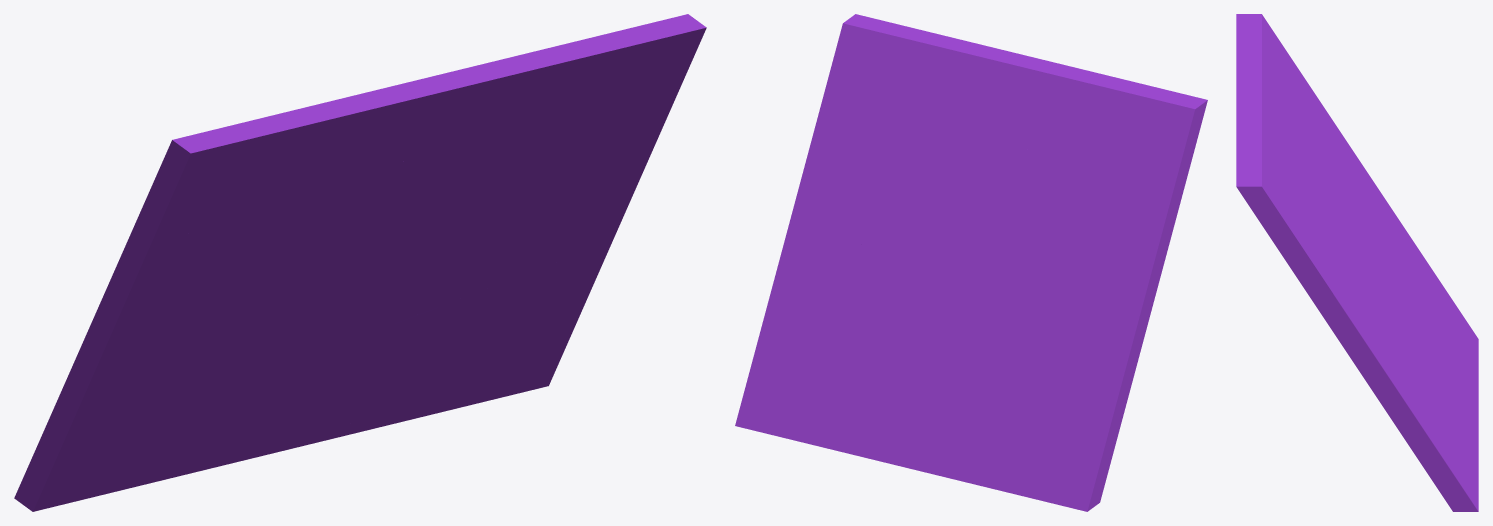
File: Window_21_chunks.fbx
3 renders of one model, left to right at view 1: azimuth 30°, elevation 25°; view 2: azimuth 150°, elevation 25°; view 3: azimuth 270°, elevation 25°, orthographic. The views are drawn at different scales.
Visible parts, largest first — view 1: Window_21_4, Window_21_7, Window_21_12, Window_21_28, Window_21_11, Window_21_33, Window_21_30, Window_21_8, Window_21_3, Window_21_23, Window_21_31, Window_21_14 (+15 smaller); view 2: Window_21_4, Window_21_7, Window_21_33, Window_21_24, Window_21_8, Window_21_28, Window_21_11, Window_21_10, Window_21_12, Window_21_25, Window_21_32, Window_21_14 (+14 smaller); view 3: Window_21_7, Window_21_28, Window_21_4, Window_21_33, Window_21_27, Window_21_21, Window_21_12, Window_21_24, Window_21_8, Window_21_32, Window_21_25, Window_21_14 (+14 smaller).
Part boxes in pixels (left/top/right/bottom): Window_21_4: left=14, top=313, right=302, bottom=511; Window_21_7: left=337, top=278, right=596, bottom=437; Window_21_12: left=171, top=109, right=320, bottom=249; Window_21_28: left=521, top=14, right=706, bottom=171; Window_21_11: left=79, top=244, right=257, bottom=379; Window_21_33: left=297, top=59, right=503, bottom=180; Window_21_30: left=437, top=41, right=638, bottom=158; Window_21_8: left=348, top=191, right=540, bottom=268; Window_21_3: left=271, top=259, right=472, bottom=370; Window_21_23: left=171, top=370, right=329, bottom=477; Window_21_31: left=330, top=153, right=468, bottom=225; Window_21_14: left=229, top=158, right=340, bottom=311; Window_21_4: left=986, top=305, right=1139, bottom=511; Window_21_7: left=735, top=289, right=887, bottom=463; Window_21_33: left=962, top=52, right=1127, bottom=156; Window_21_24: left=933, top=342, right=1024, bottom=496; Window_21_8: left=845, top=168, right=1019, bottom=256; Window_21_28: left=821, top=14, right=917, bottom=151; Window_21_11: left=1066, top=220, right=1167, bottom=354; Window_21_10: left=1113, top=107, right=1197, bottom=266; Window_21_12: left=1087, top=80, right=1207, bottom=188; Window_21_25: left=877, top=263, right=989, bottom=376; Window_21_32: left=900, top=30, right=975, bottom=175; Window_21_14: left=1022, top=113, right=1090, bottom=288; Window_21_7: left=1388, top=367, right=1478, bottom=511; Window_21_28: left=1236, top=158, right=1320, bottom=271; Window_21_4: left=1381, top=220, right=1478, bottom=369; Window_21_33: left=1236, top=53, right=1303, bottom=172; Window_21_27: left=1293, top=260, right=1375, bottom=374; Window_21_21: left=1363, top=298, right=1407, bottom=408; Window_21_12: left=1236, top=14, right=1310, bottom=113; Window_21_24: left=1405, top=295, right=1478, bottom=413; Window_21_8: left=1325, top=183, right=1372, bottom=323; Window_21_32: left=1246, top=143, right=1325, bottom=227; Window_21_25: left=1367, top=256, right=1428, bottom=364; Window_21_14: left=1277, top=85, right=1369, bottom=220.
Size of the model in its own units: 1059 by 930 by 628.
